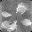people: (16, 3, 26, 15), (21, 18, 32, 26), (9, 21, 17, 31), (1, 21, 10, 29), (2, 11, 12, 18)
